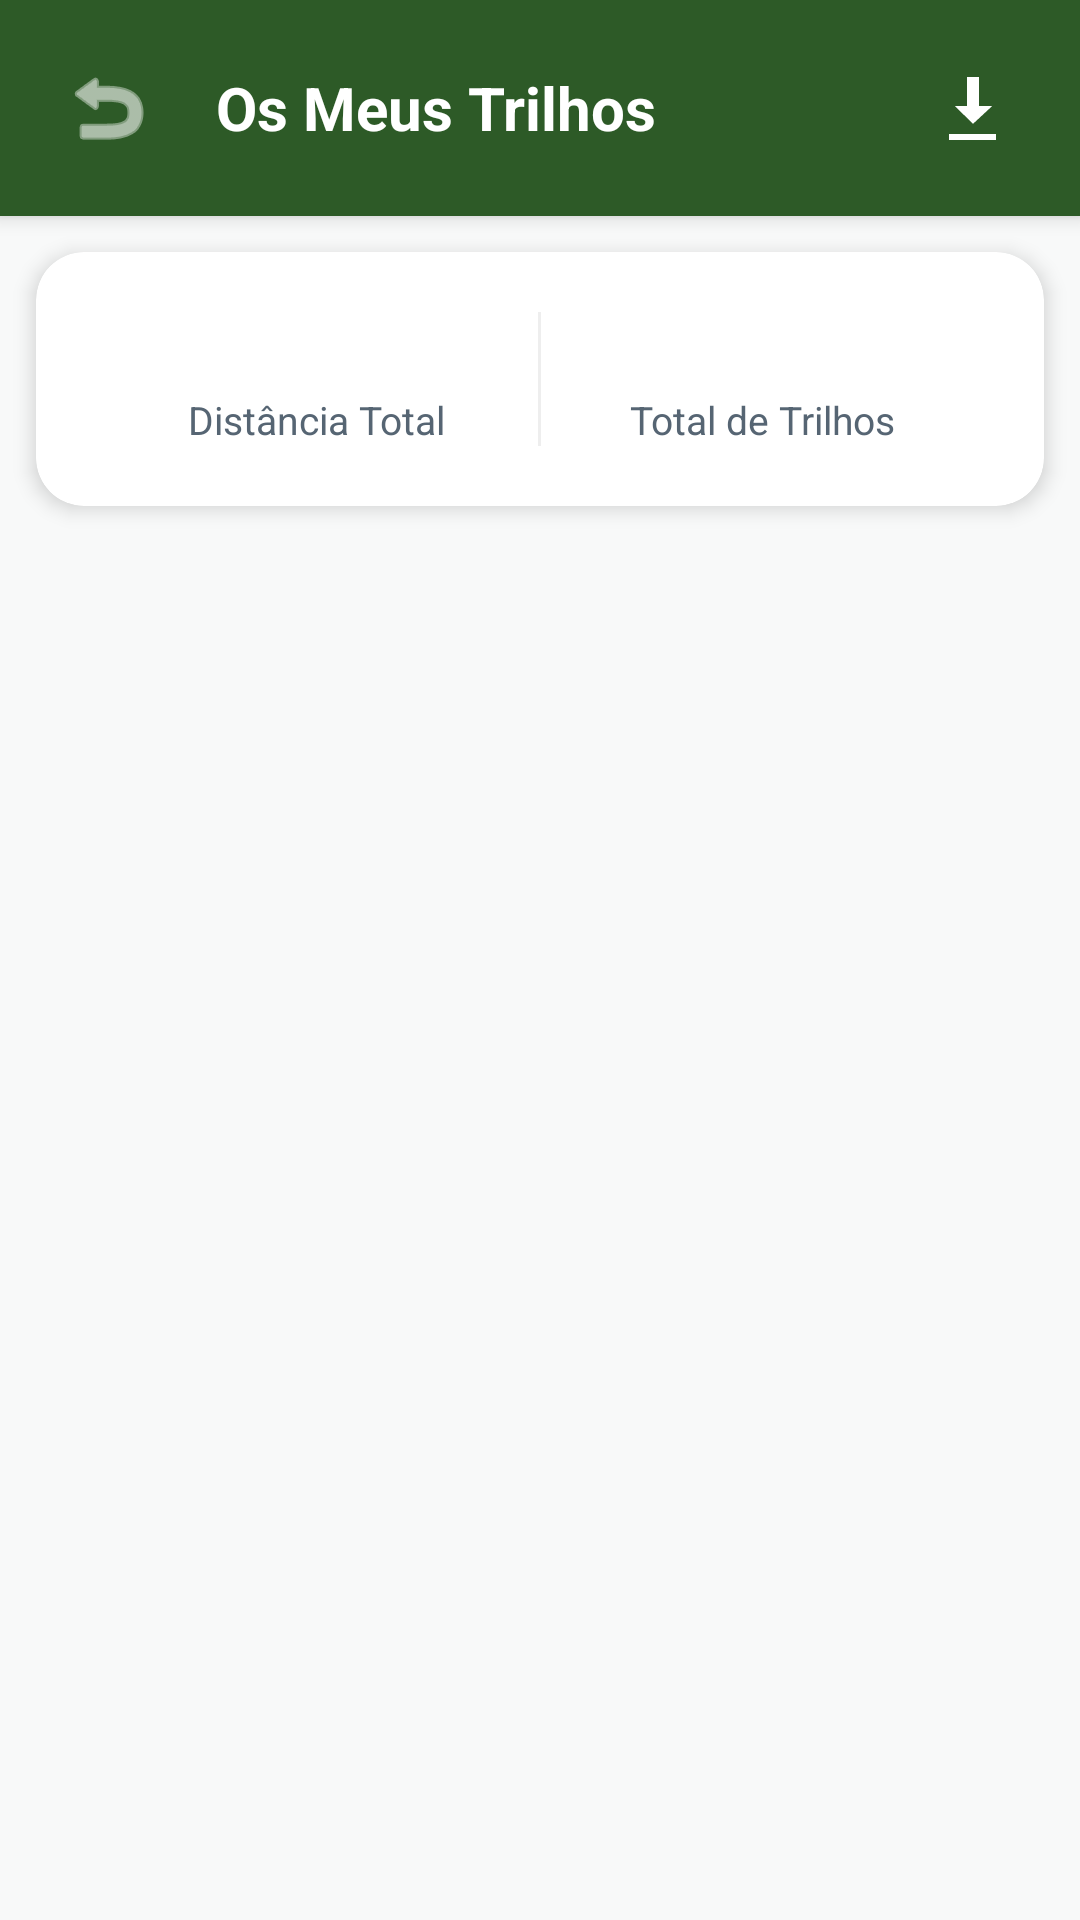

Where to tap for icons on this 1080 × 1920 app screen, as (x,y):
Voltar: (109,108)
